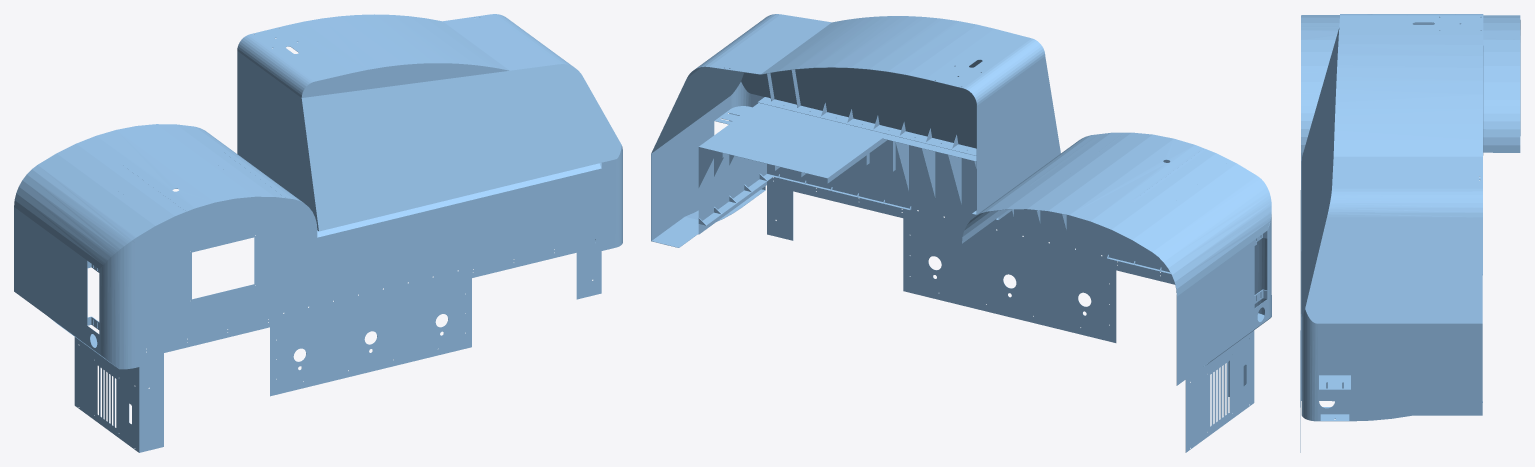
Rendered from base_right_cover.dae.
3 renders of one model, left to right at view 1: azimuth 30°, elevation 25°; view 2: azimuth 150°, elevation 25°; view 3: azimuth 270°, elevation 25°, orthographic. The views are drawn at different scales.
Visible parts, largest first — view 1: UMS5_Cover_right; view 2: UMS5_Cover_right; view 3: UMS5_Cover_right.
Part boxes in pixels (left/top/right/bottom): UMS5_Cover_right: left=14, top=14, right=622, bottom=452; UMS5_Cover_right: left=651, top=14, right=1271, bottom=452; UMS5_Cover_right: left=1300, top=14, right=1520, bottom=452.
Size of the model in its own units: 2.07 by 0.6922 by 1.2.
